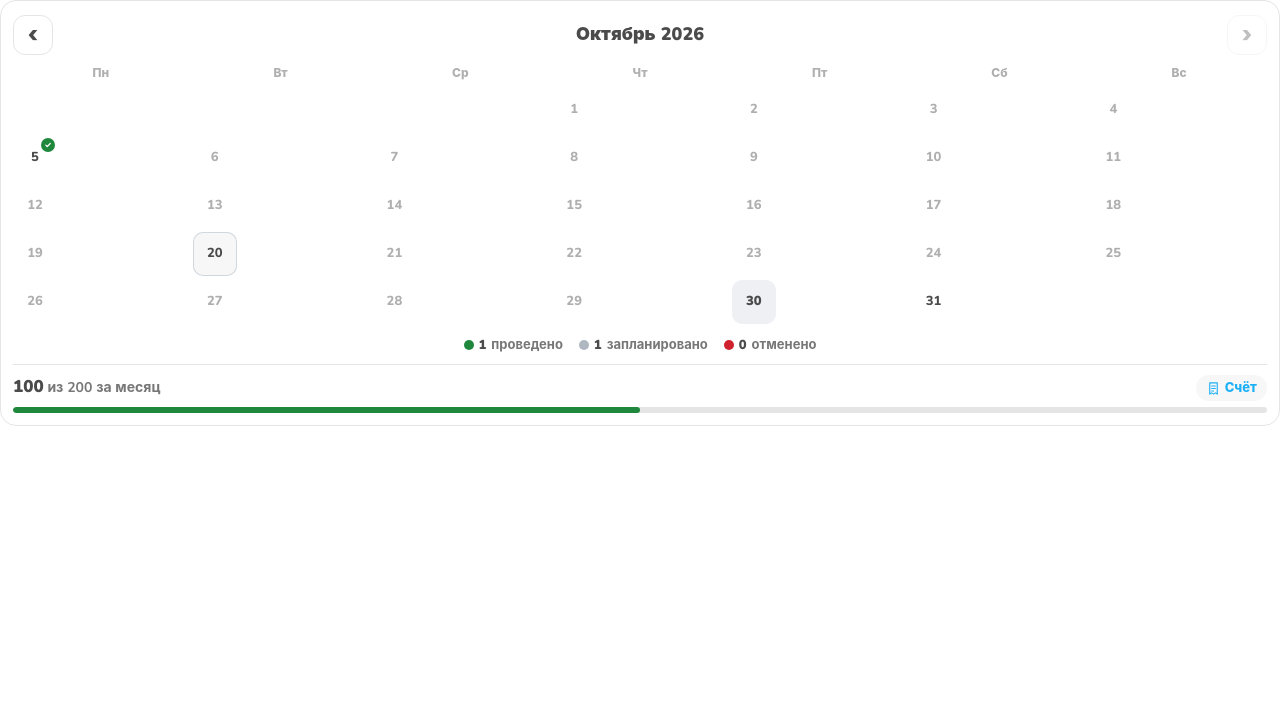
Test: LessonCalendar › преподаватель (компактно): «Счёт» — проведённые уроки месяца и сумма к оплате
Click the button "Счёт". click: (1231, 388)
box: top-left (1196, 375), bottom-right (1267, 401)
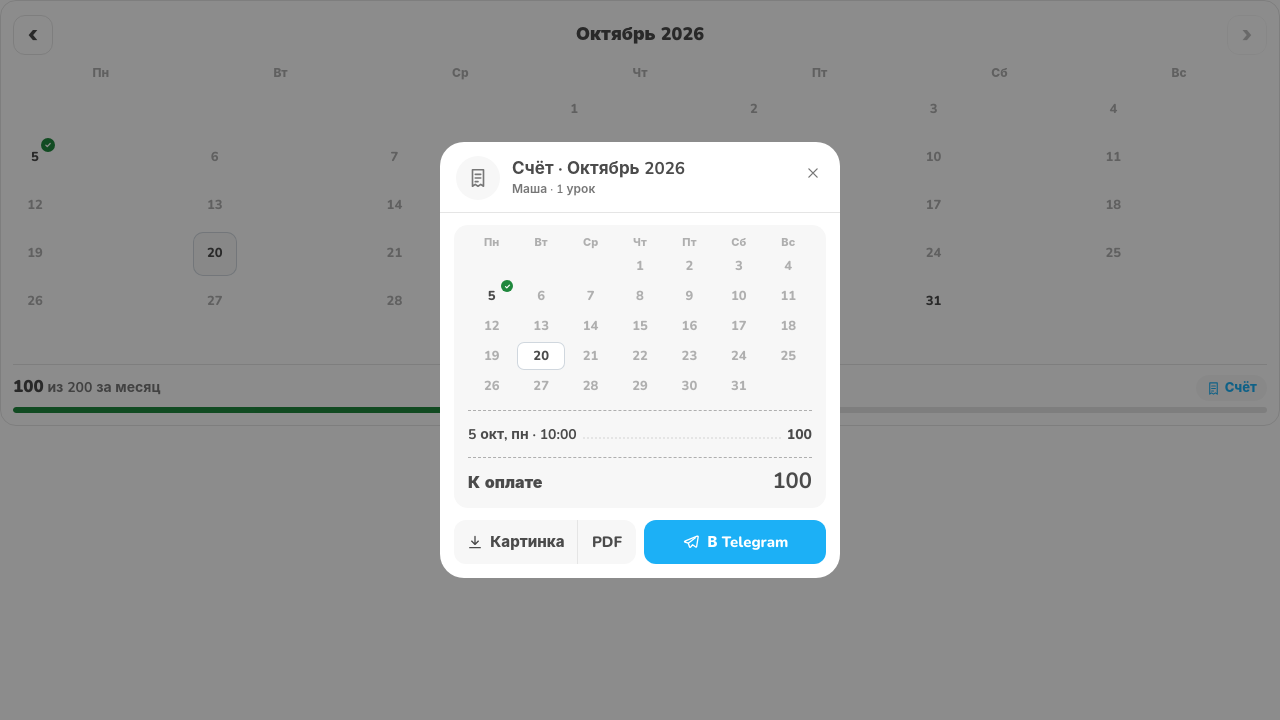
Check: the dialog shows "Маша · 1 урок", box top-left (512, 181), bottom-right (595, 197)
Check: the element with class "tot" shows "100", box top-left (772, 466), bottom-right (812, 496)
